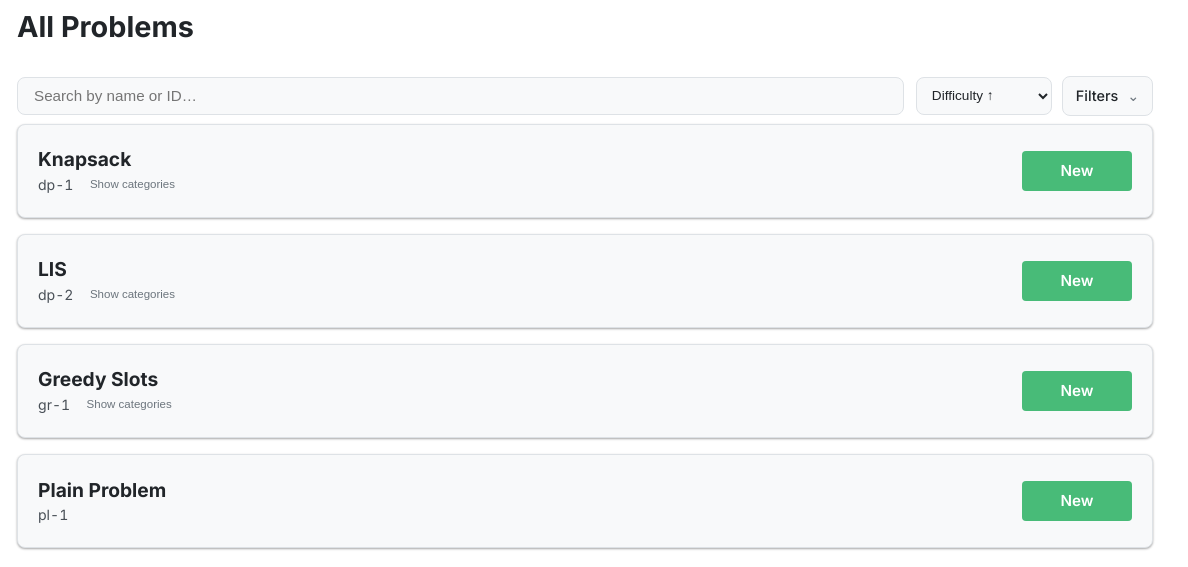
Scenario: Problems Page › category filters (global counts, server-side filter) › keeps category choices inside the Filters panel and renders global counts
The image size is (1188, 567).
Click the heading "Filters ⌄" at (1108, 96), box [1062,76,1153,116]
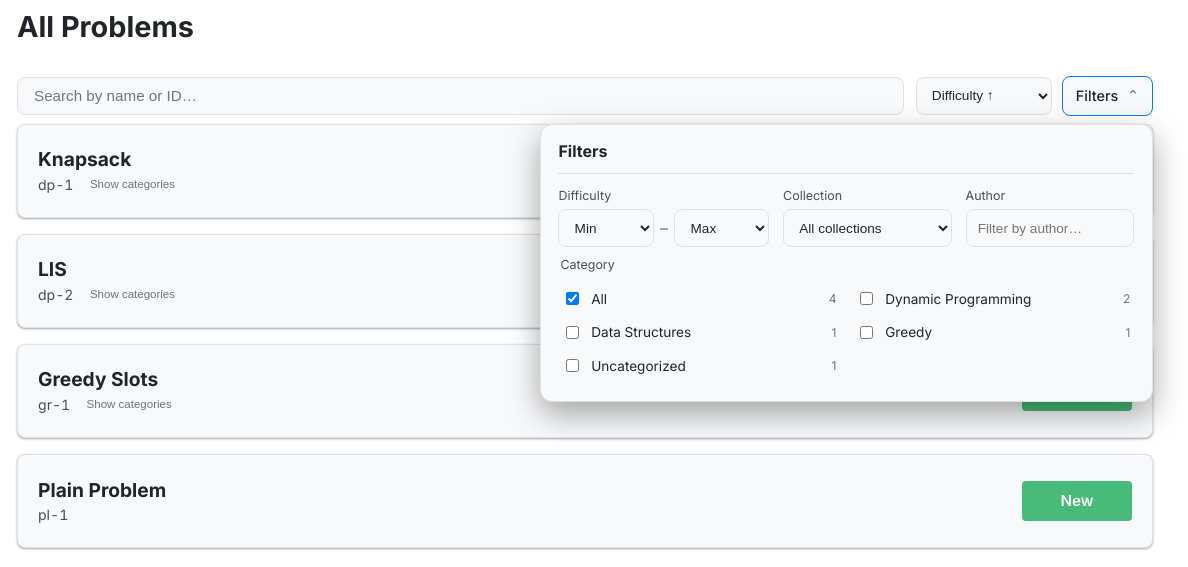
Expected: the checkbox labelled "All 4" is shown, [566,292,579,305]
Expected: the checkbox labelled "Dynamic Programming 2" is shown, [860,292,873,305]
Expected: the checkbox labelled "Data Structures 1" is shown, [566,326,579,339]
